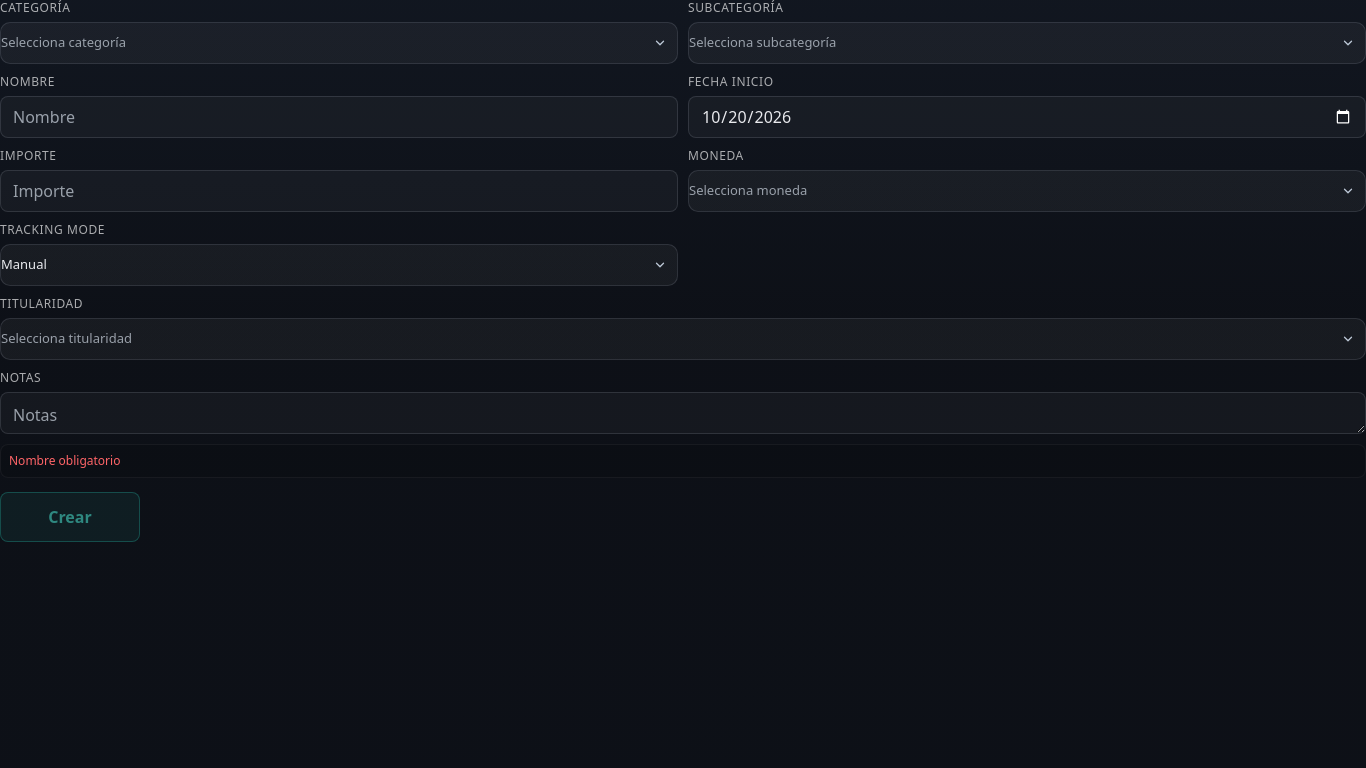
Scenario: ItemForm (core) › limits land share and land appreciation to one decimal
This screenshot has width=1366, height=768.
In the field with placeholder "Nombre": (339, 117) [0,96,678,138], type "Casa"
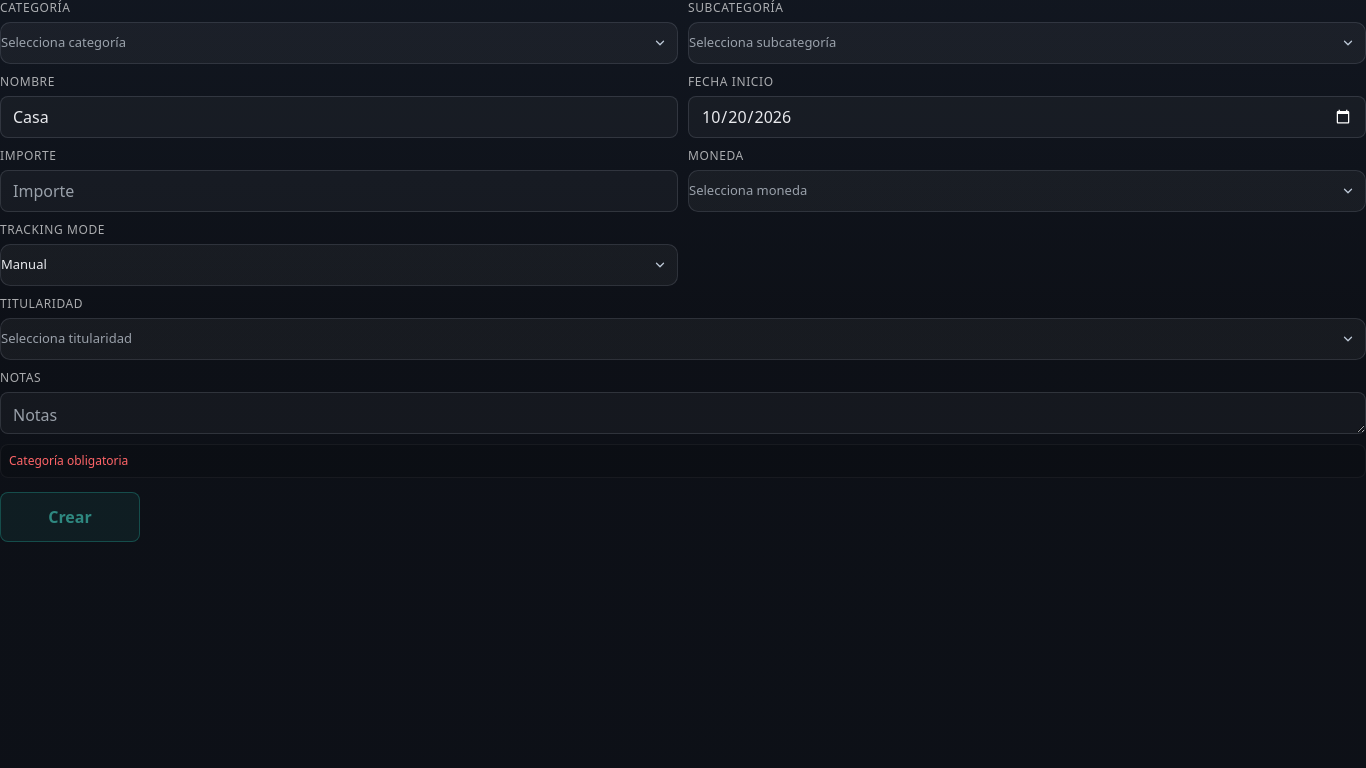
Select "Inmuebles" in the dropdown labelled "Categoría": (339, 43) [0,22,678,64]
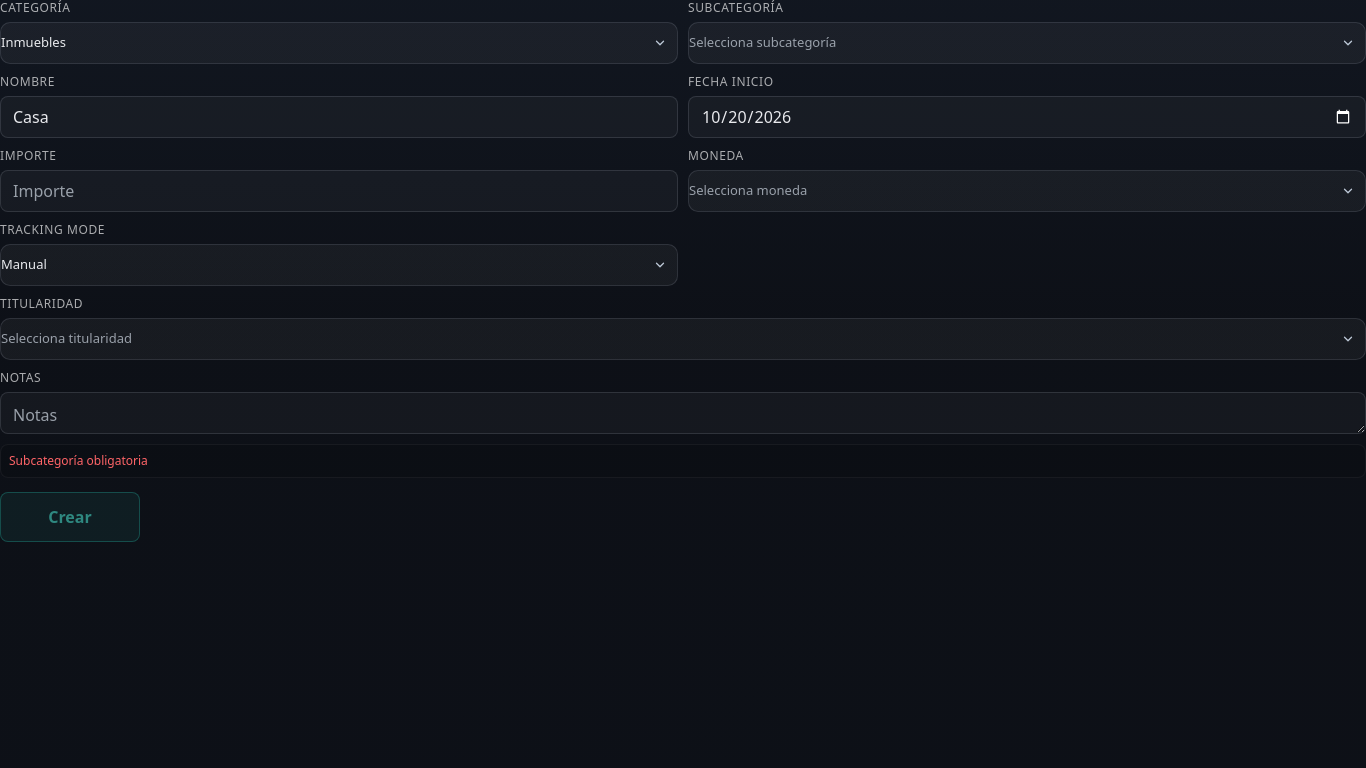
Select "Vivienda habitual" in the dropdown labelled "Subcategoría": (1027, 43) [688,22,1365,64]
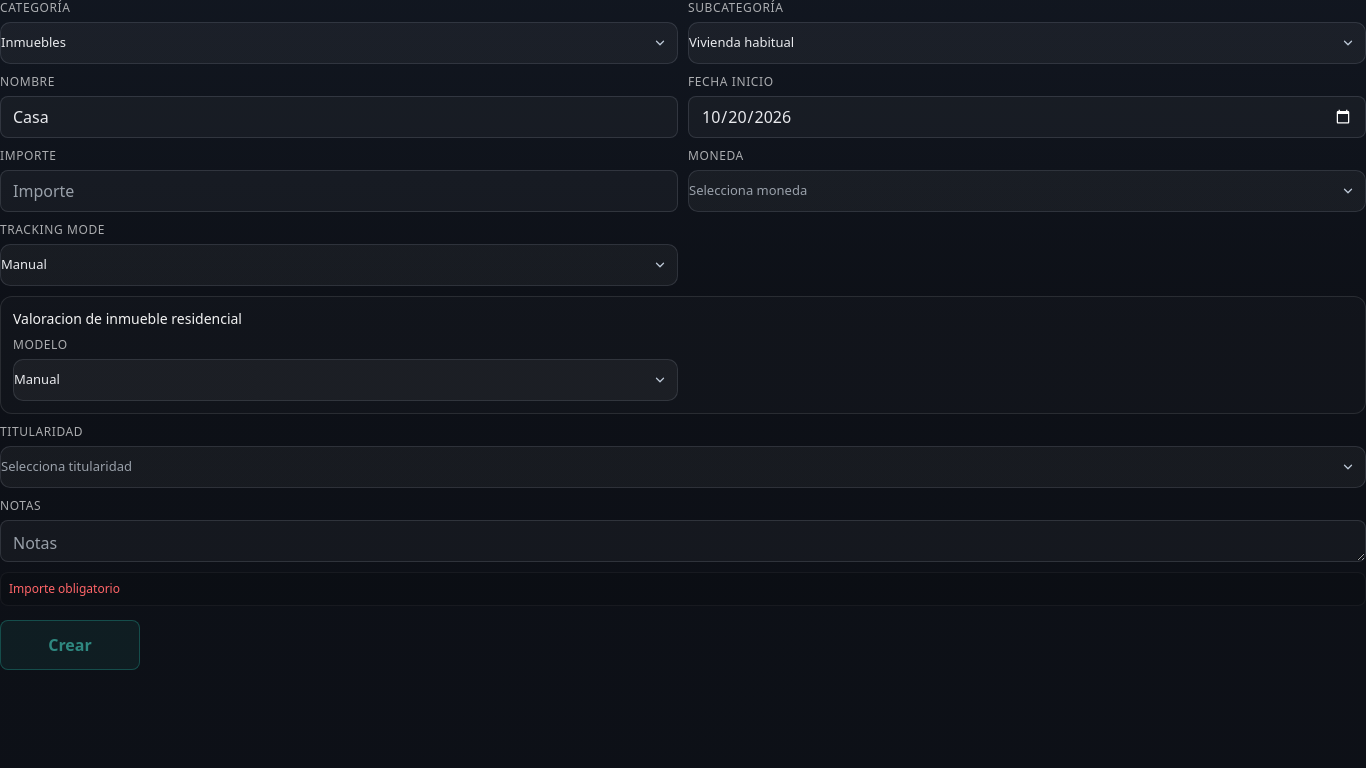
Select "EUR" in the dropdown labelled "Moneda": (1027, 191) [688,170,1365,212]
In the field with placeholder "Importe": (339, 191) [0,170,678,212], type "100000"
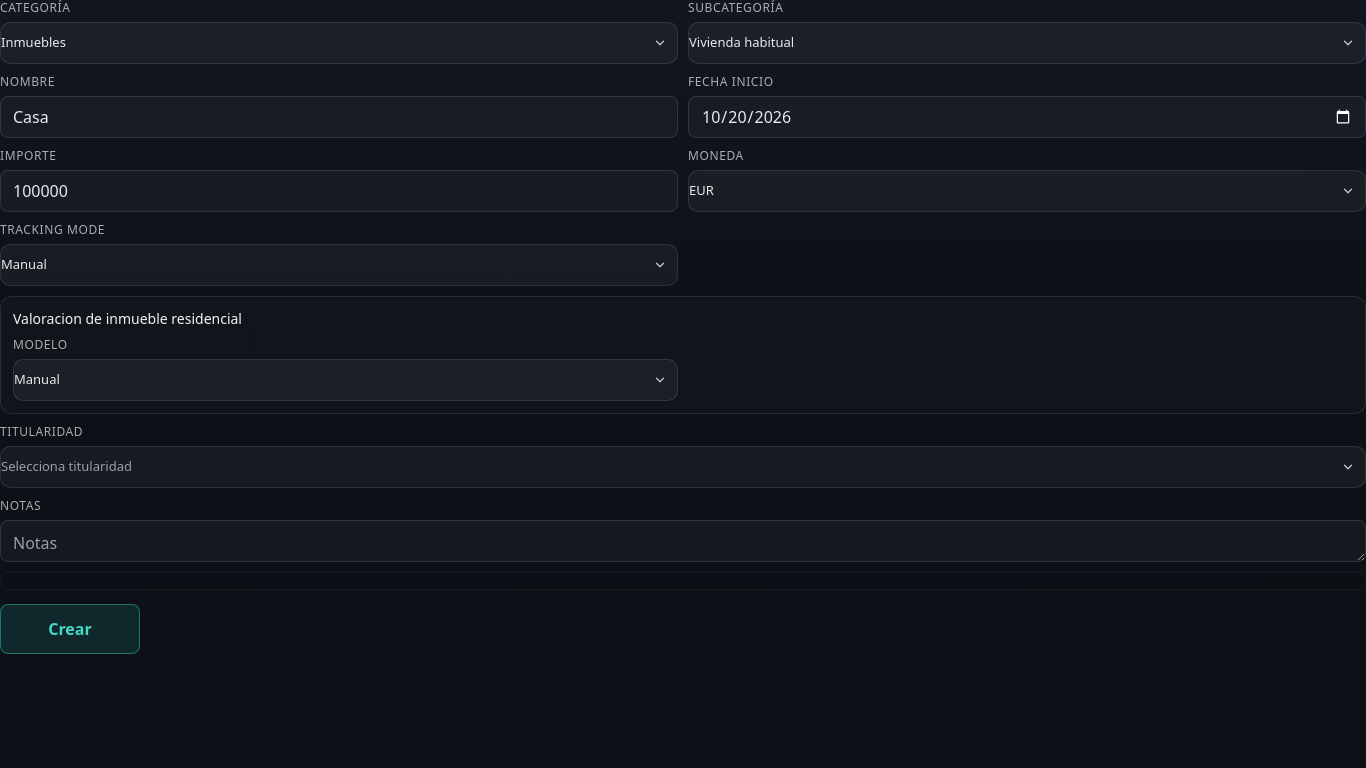
Select "Automática (suelo + construcción)" in the dropdown labelled "Modelo": (346, 380) [13,359,678,401]
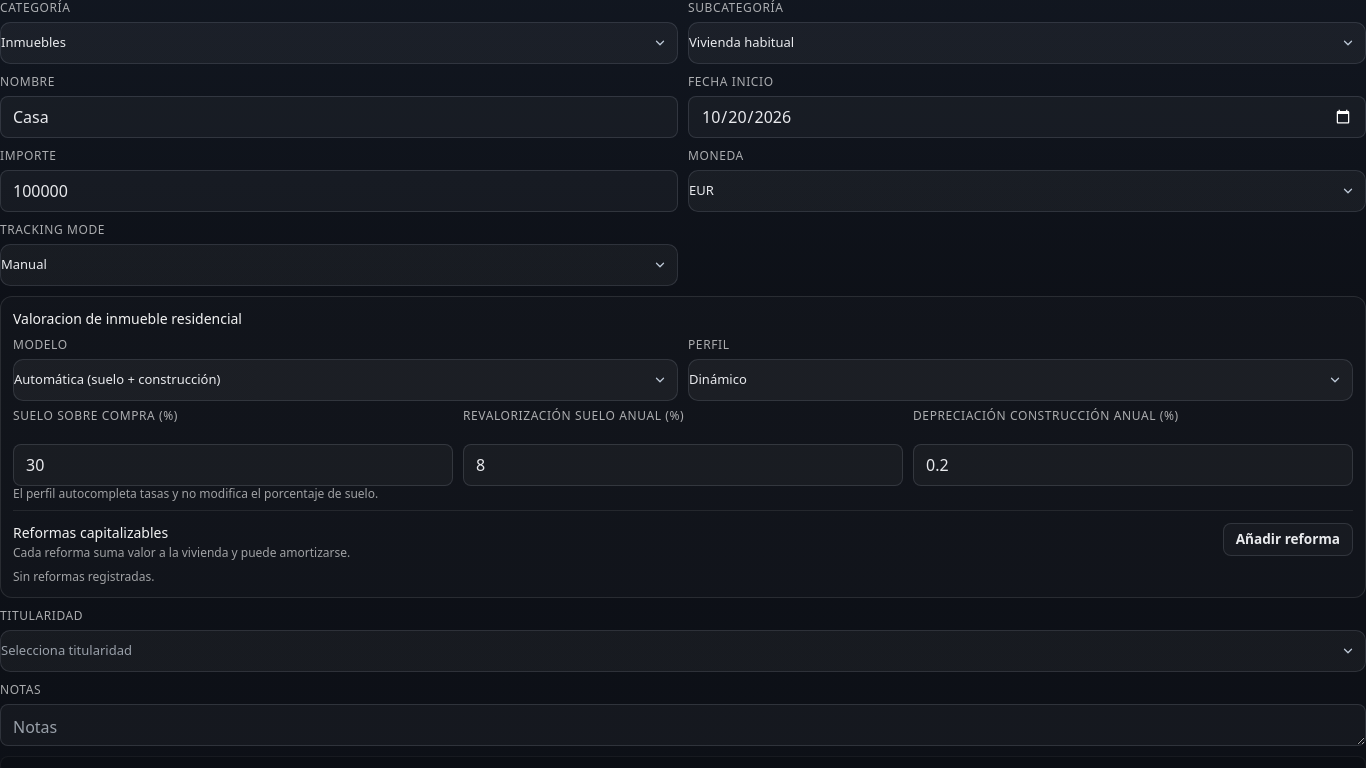
Replace the text in the field with placeholder "Ej: 30" with "42.37": (233, 465) [13,444,453,486]
Replace the text in the field with placeholder "Ej: 3" with "7.58": (683, 465) [463,444,903,486]
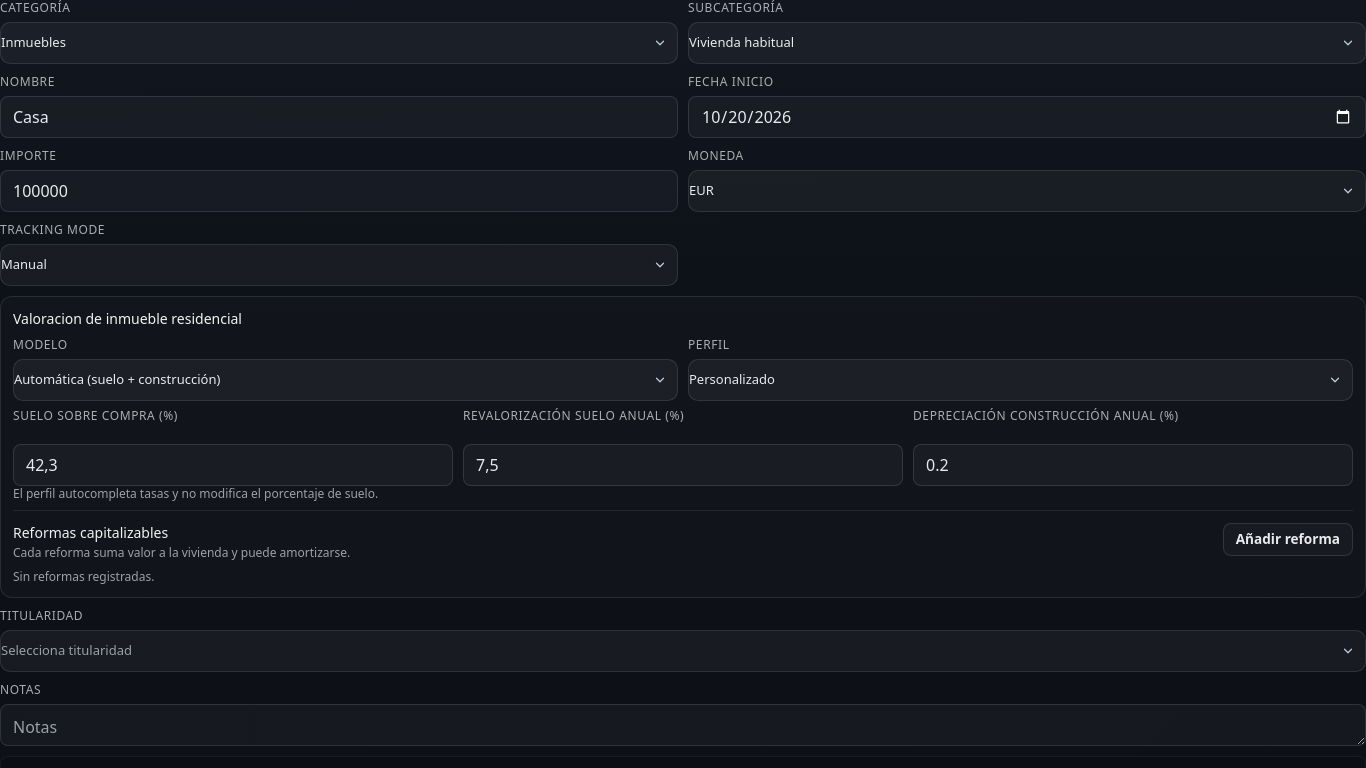
Expected: the field with placeholder "Ej: 30" holds "42,3", [13,444,453,486]
Expected: the field with placeholder "Ej: 3" holds "7,5", [463,444,903,486]
